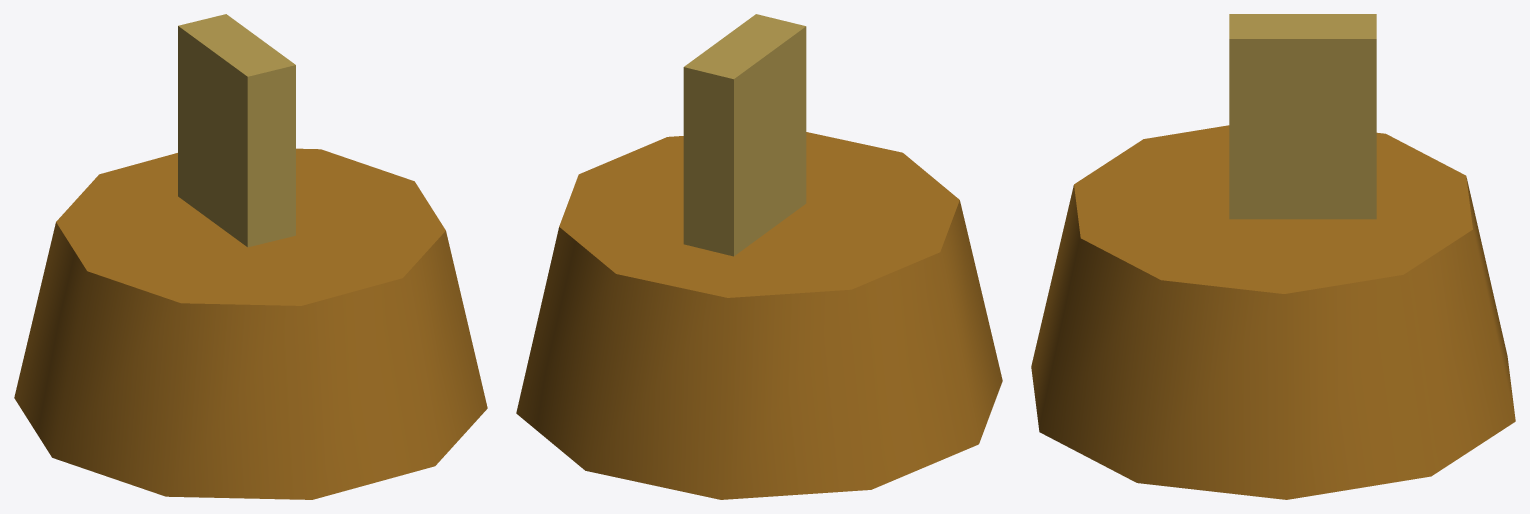
File: head.glb
The picture shows the model from 3 angles, left to right: view 1: azimuth 30°, elevation 25°; view 2: azimuth 150°, elevation 25°; view 3: azimuth 270°, elevation 25°; orthographic projection. The views are drawn at different scales.
Parts seen in each view (by area): view 1: helmet, crest; view 2: helmet, crest; view 3: helmet, crest.
Part boxes in pixels (left/top/right/bottom): helmet: left=14, top=148, right=487, bottom=499; crest: left=178, top=14, right=295, bottom=247; helmet: left=516, top=132, right=1002, bottom=499; crest: left=683, top=14, right=806, bottom=256; helmet: left=1031, top=125, right=1515, bottom=499; crest: left=1229, top=14, right=1376, bottom=219.
Size of the model in its own units: 0.6791 by 0.55 by 0.6569.
